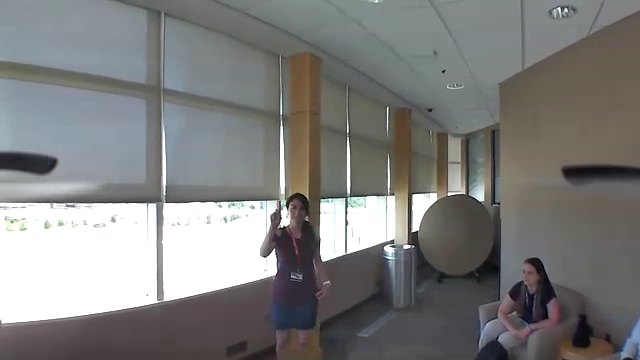up: (267, 198, 282, 234)
